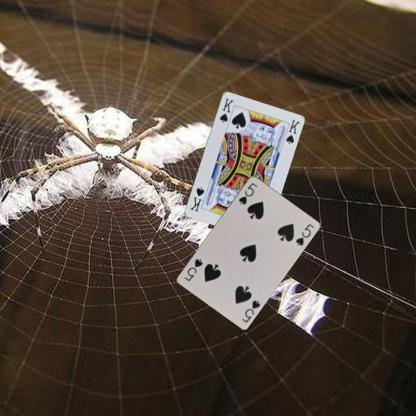5s: (239, 297, 261, 324), (236, 180, 258, 206)
Ks: (216, 95, 235, 124)
